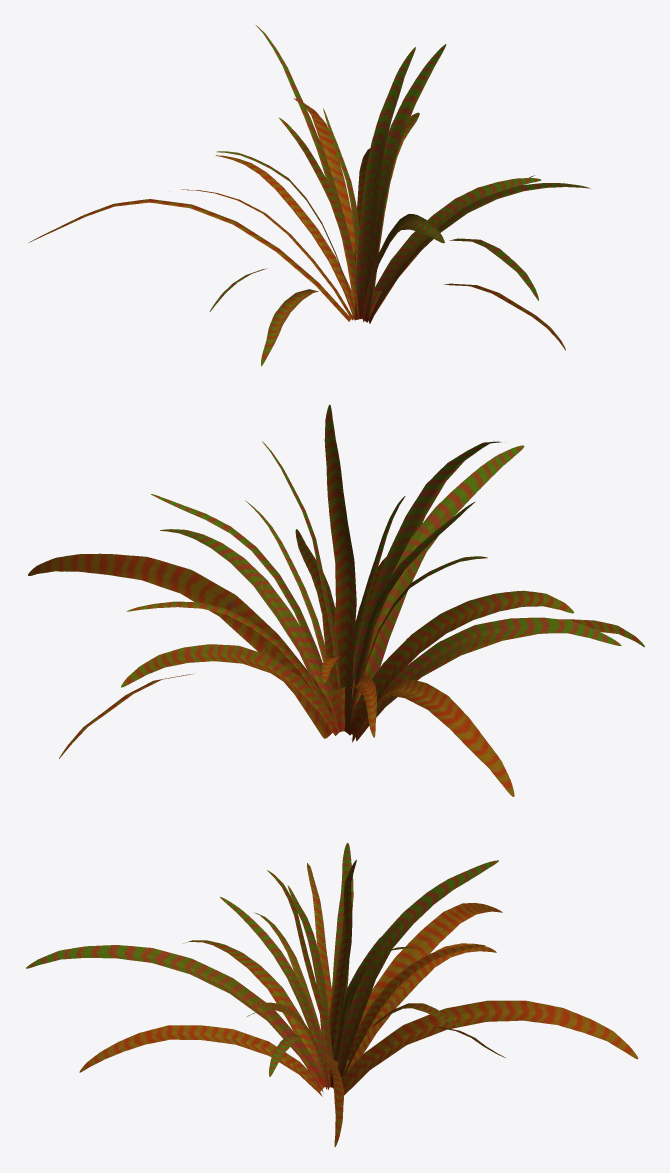
Rendered from Plant - Alien Plant 10 1-CXuZsaNH.glb.
3 renders of one model, top to bottom at view 1: azimuth 30°, elevation 25°; view 2: azimuth 150°, elevation 25°; view 3: azimuth 270°, elevation 25°, orthographic. The views are drawn at different scales.
Parts seen in each view (by area): view 1: PLant_10_1_L0(Clone); view 2: PLant_10_1_L0(Clone); view 3: PLant_10_1_L0(Clone).
Boxes of the visible parts, left/top/right/bottom form: PLant_10_1_L0(Clone): left=28, top=25, right=590, bottom=366; PLant_10_1_L0(Clone): left=28, top=404, right=644, bottom=796; PLant_10_1_L0(Clone): left=26, top=843, right=638, bottom=1146.
Bounding box in the file's own units: 3.3 × 1.55 × 3.55.
1 material, 1 textured.
